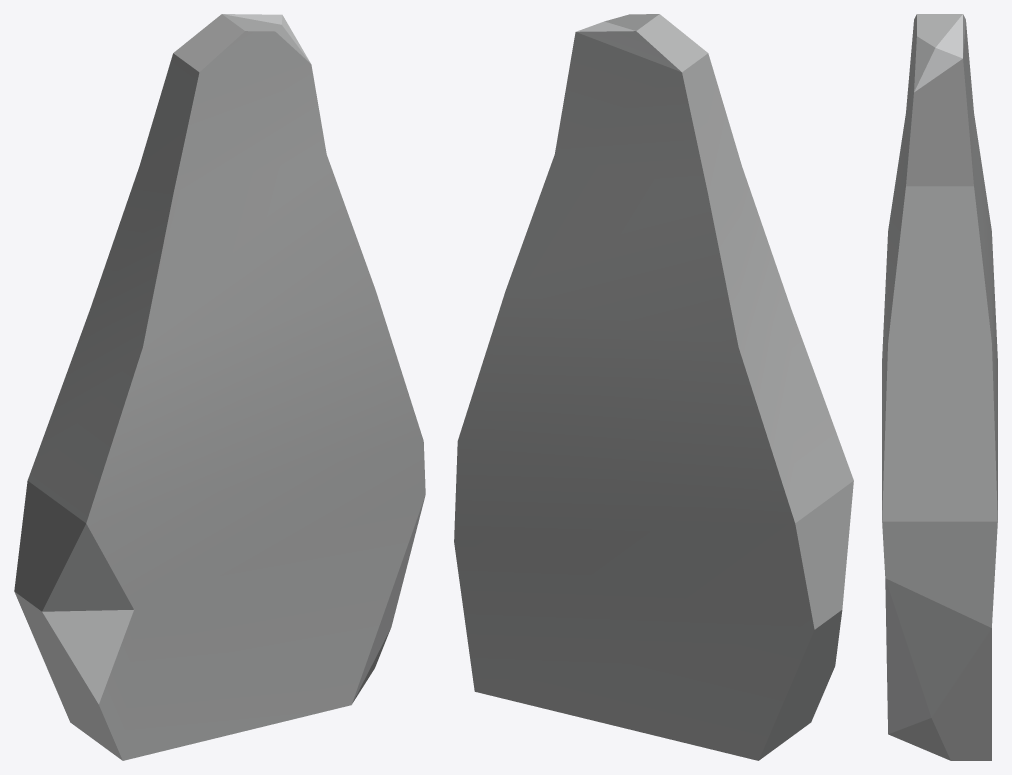
File: stone_8.fbx
3 renders of one model, left to right at view 1: azimuth 30°, elevation 25°; view 2: azimuth 150°, elevation 25°; view 3: azimuth 270°, elevation 25°, orthographic.
Visible parts, largest first — view 1: stone_8; view 2: stone_8; view 3: stone_8.
Part boxes in pixels (x1,y1,x2,y2): stone_8: (14,14,425,760); stone_8: (454,14,853,760); stone_8: (882,14,997,760).
Bounding box in the file's own units: 149 × 270 × 41.94.
